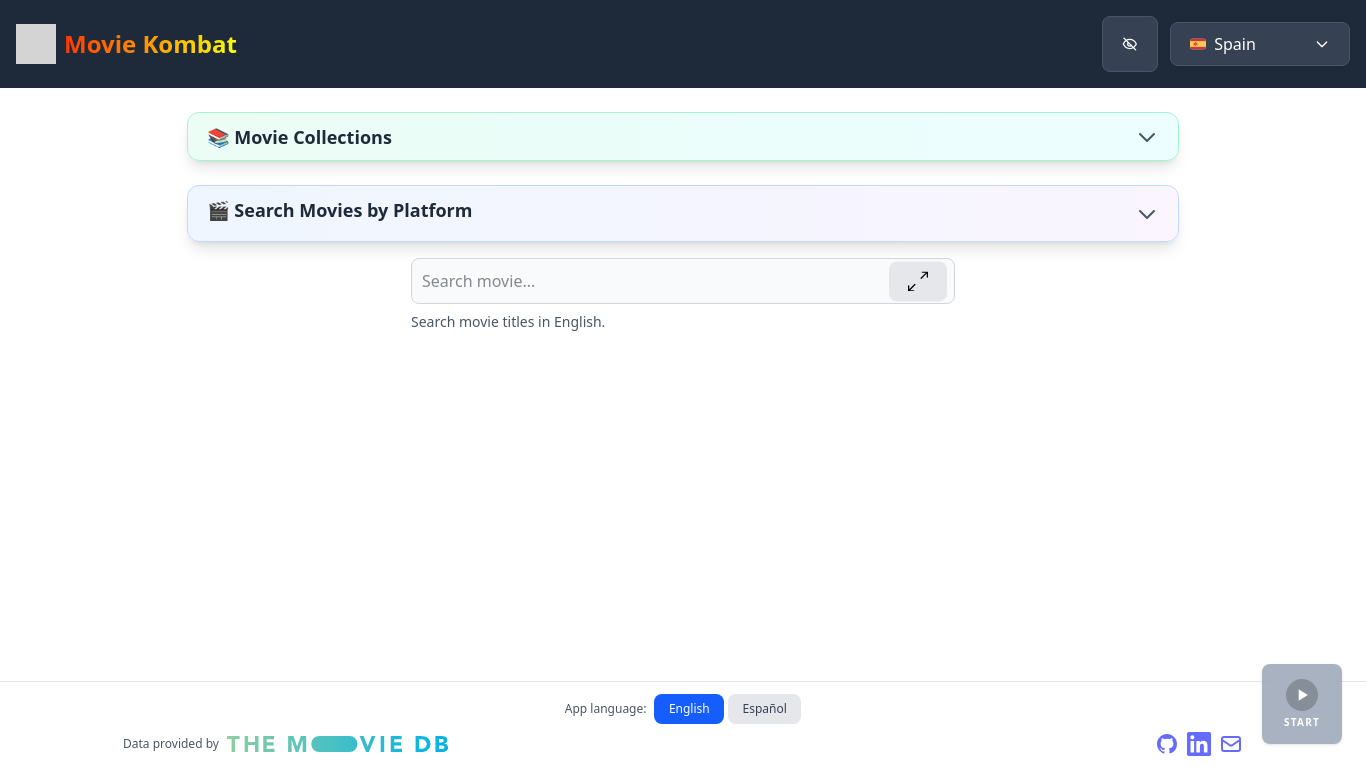
App kombat start flow › shows the empty-list prompt when there are no movies
Click the button with aria-label "Start Kombat" at (1302, 704), box [1262,664,1342,744]
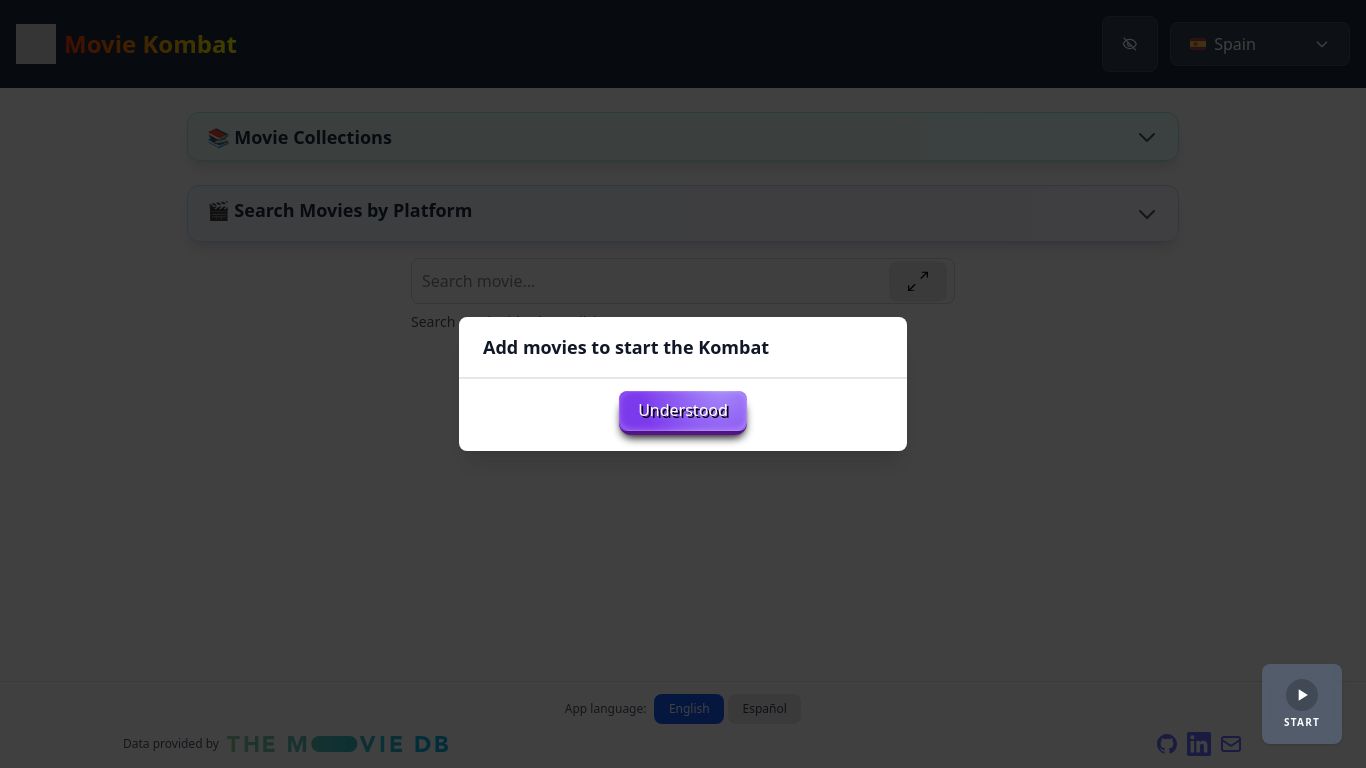
Check: the heading "Add movies to start the Kombat" is shown, box [483,335,769,359]
